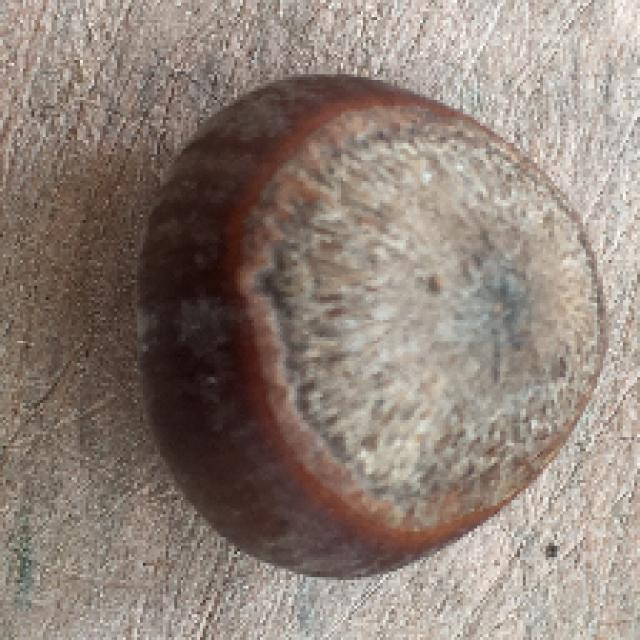damagedHazelnut: (144, 54, 600, 578)
